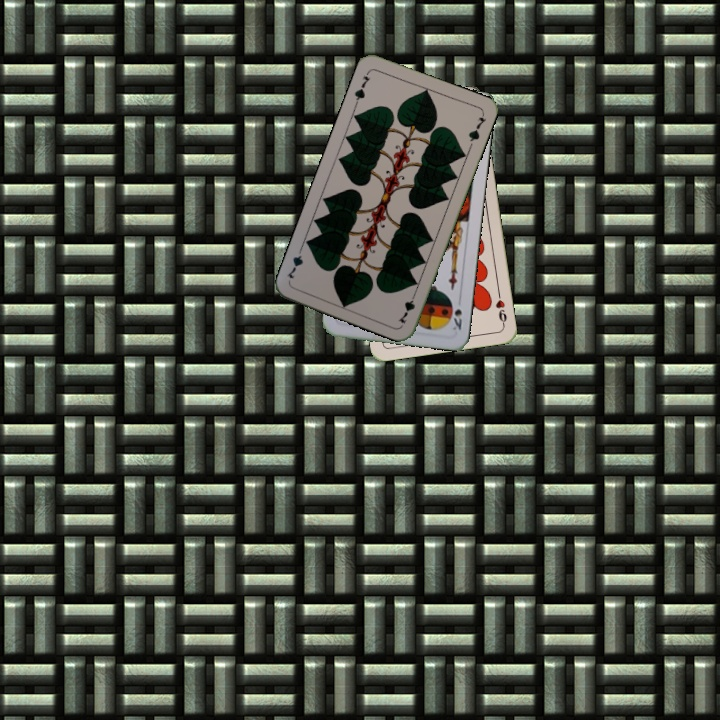G7: (395, 287, 419, 326), (350, 68, 373, 107)
H9: (492, 287, 509, 328)
SK: (448, 305, 465, 333)
